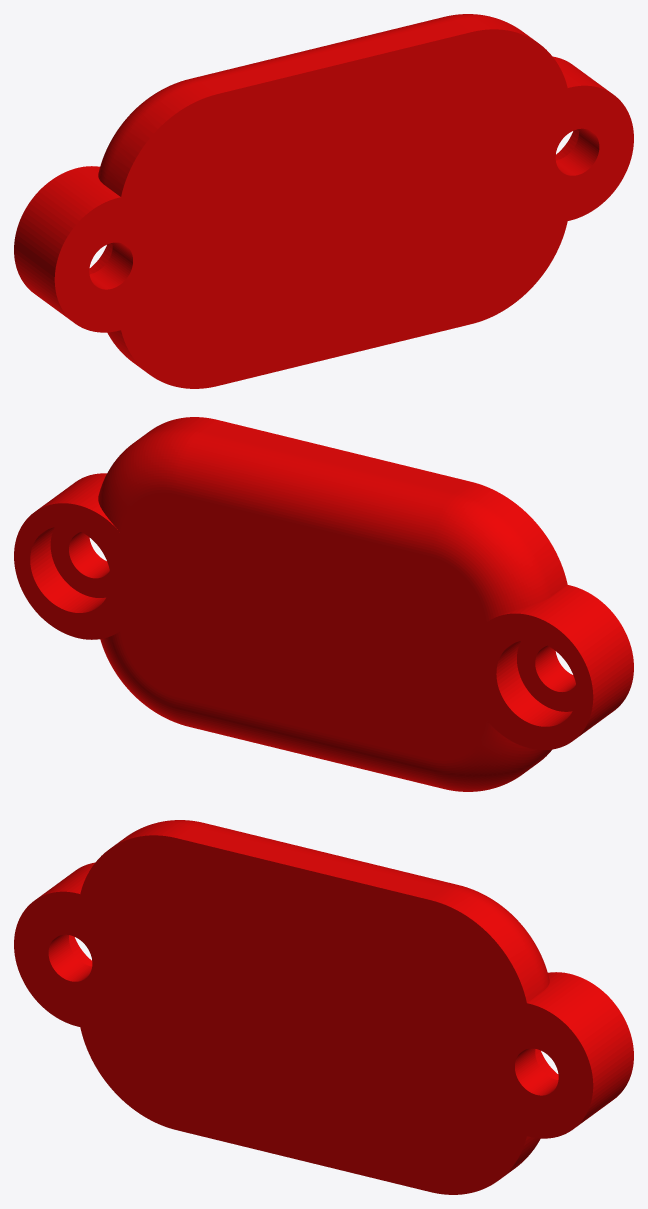
The model's file is TapaTBB.dae.
The picture shows the model from 3 angles, top to bottom: view 1: azimuth 30°, elevation 25°; view 2: azimuth 150°, elevation 25°; view 3: azimuth 330°, elevation 25°; orthographic projection.
Visible parts, largest first — view 1: TapaTBB; view 2: TapaTBB; view 3: TapaTBB.
Part boxes in pixels (x1,y1,x2,y2): TapaTBB: (14, 14, 633, 388); TapaTBB: (14, 417, 633, 791); TapaTBB: (14, 820, 633, 1194).
Bounding box in the file's own units: 40.99 × 5 × 19.75.
